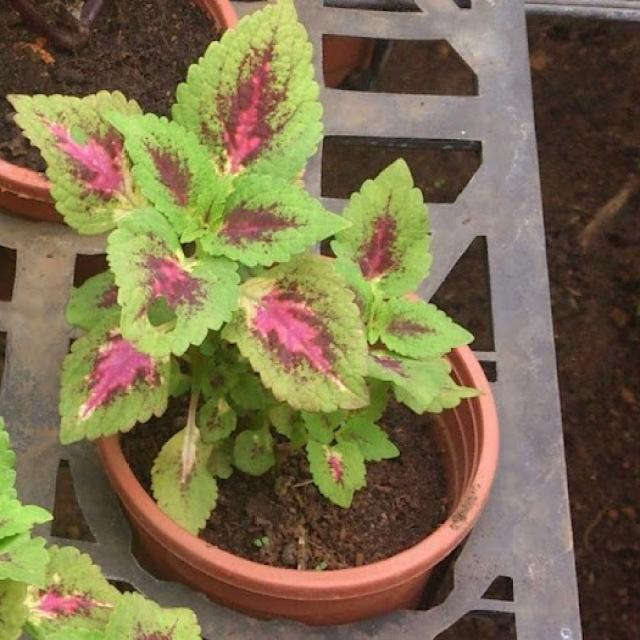Coleus: (15, 78, 490, 506)
